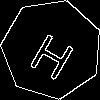H: (26, 24, 82, 82)
